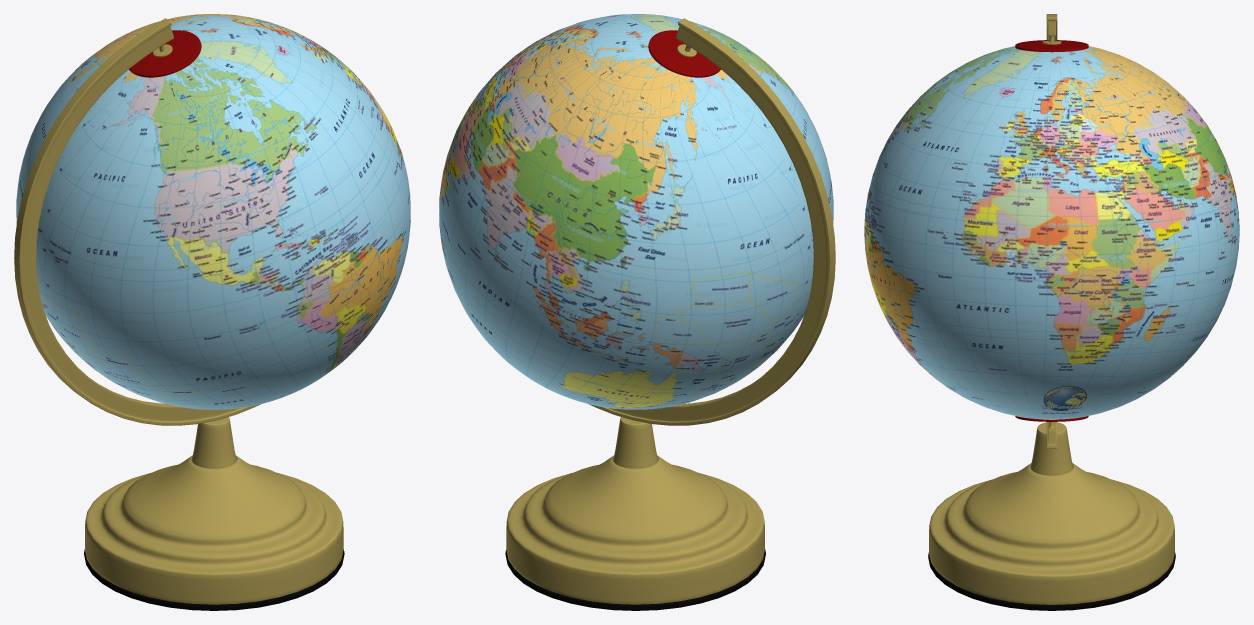
File: globe.FBX
The picture shows the model from 3 angles, left to right: view 1: azimuth 30°, elevation 25°; view 2: azimuth 150°, elevation 25°; view 3: azimuth 270°, elevation 25°; orthographic projection. The views are drawn at different scales.
Parts seen in each view (by area): view 1: RenderStuff_Globe; view 2: RenderStuff_Globe; view 3: RenderStuff_Globe.
Part boxes in pixels (x1=…): RenderStuff_Globe: x1=14, y1=14, x2=410, y2=610; RenderStuff_Globe: x1=439, y1=14, x2=835, y2=610; RenderStuff_Globe: x1=864, y1=14, x2=1239, y2=610.
Size of the model in its own units: 178 by 253 by 165.
